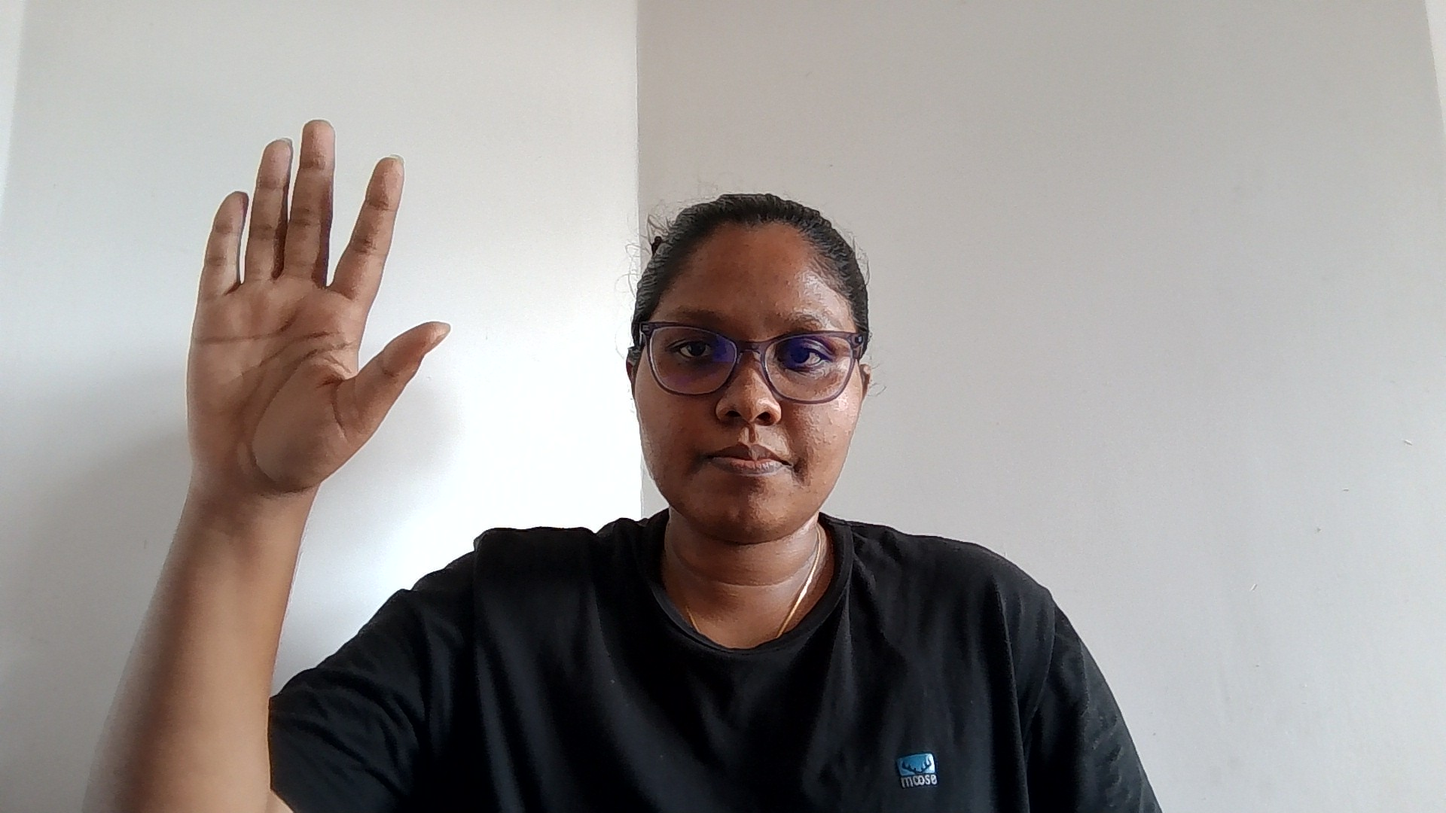Hello: (130, 53, 544, 591)
